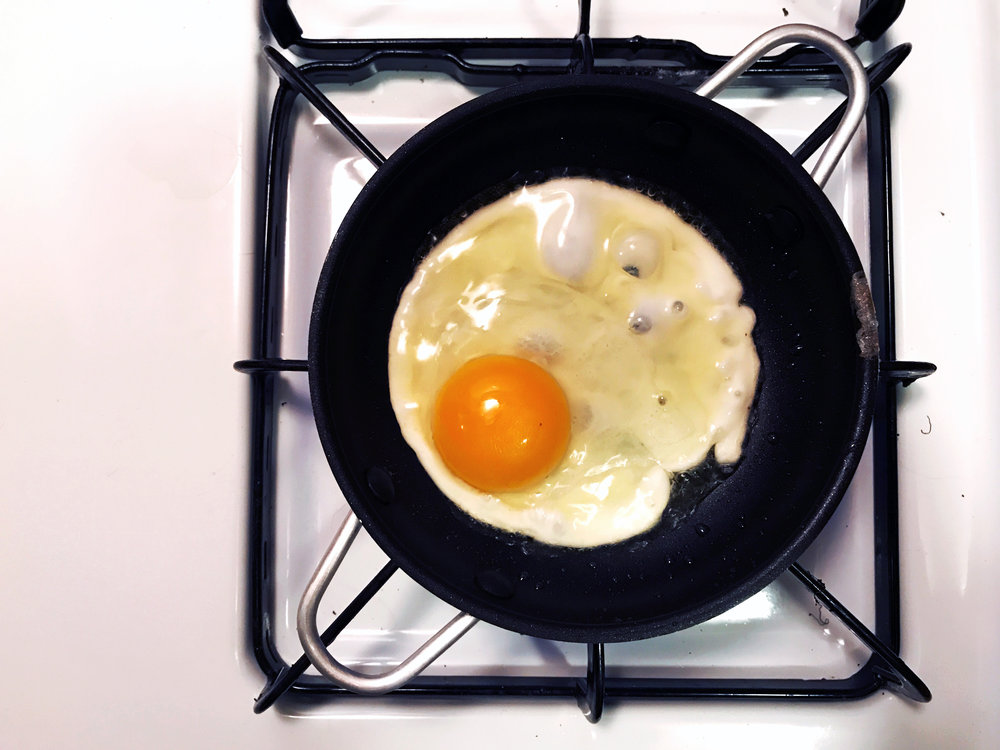fried egg: (422, 268, 703, 500)
